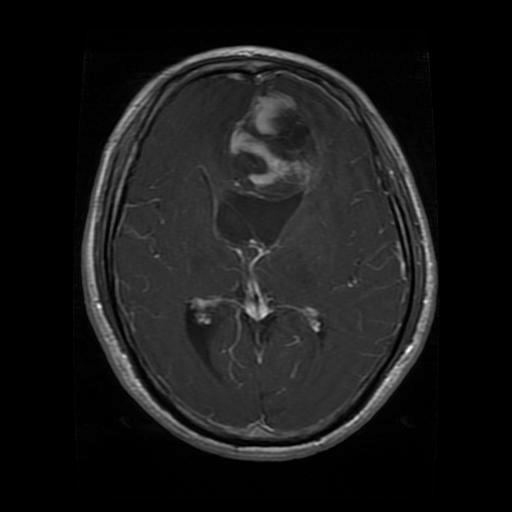Tumour-Glioma: (227, 97, 313, 200)
